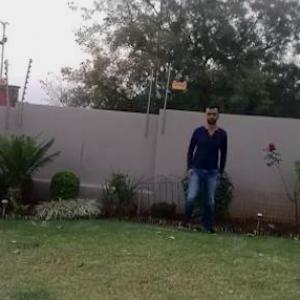follow: (186, 102, 234, 236)
